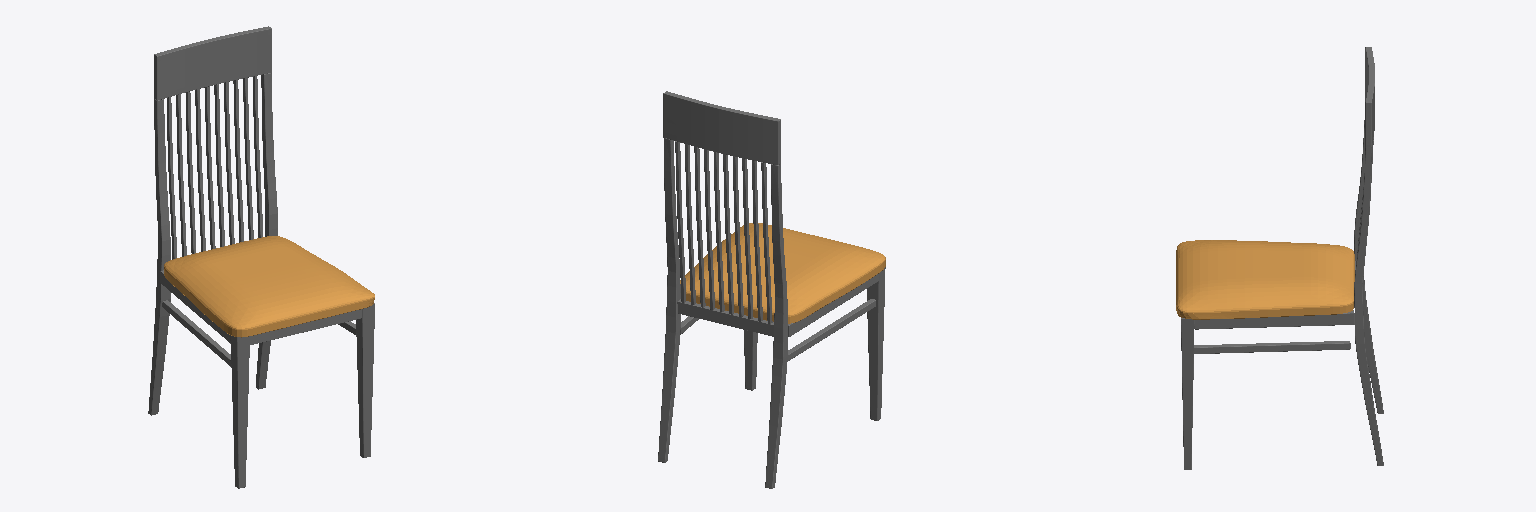
Rendered from chairTest.obj.
3 views of the same model, side by side, from view 1: azimuth 30°, elevation 25°; view 2: azimuth 150°, elevation 25°; view 3: azimuth 270°, elevation 25° (orthographic).
Parts seen in each view (by area): view 1: x07; view 2: x07; view 3: x07.
Part boxes in pixels (left/top/right/bottom): x07: left=148, top=26, right=374, bottom=488; x07: left=658, top=91, right=885, bottom=488; x07: left=1176, top=47, right=1383, bottom=469.
Bounding box in the file's own units: 111 × 267 × 138.